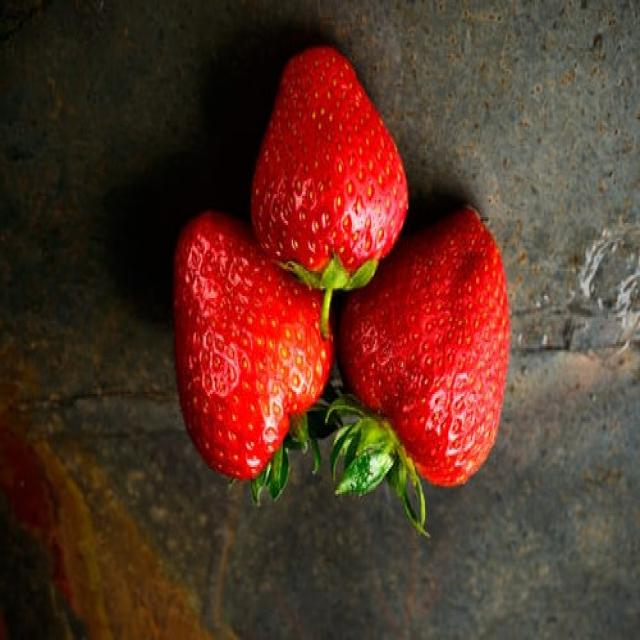mature: (338, 204, 510, 488), (171, 213, 336, 478), (250, 46, 409, 277)
